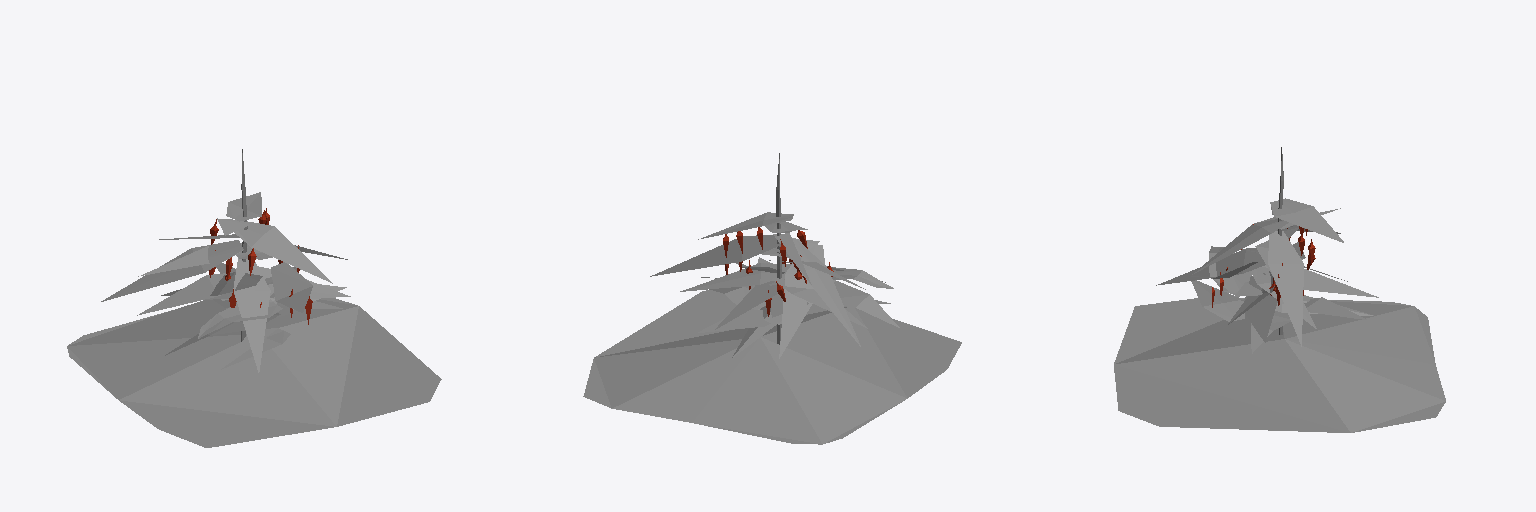
3 views of the same model, side by side, from view 1: azimuth 30°, elevation 25°; view 2: azimuth 150°, elevation 25°; view 3: azimuth 270°, elevation 25° (orthographic).
Parts seen in each view (by area): view 1: Chilismall_lod2; view 2: Chilismall_lod2; view 3: Chilismall_lod2.
Boxes of the visible parts, x1,y1,x2,y2 form: Chilismall_lod2: [67, 149, 441, 447]; Chilismall_lod2: [583, 153, 961, 444]; Chilismall_lod2: [1114, 147, 1445, 432].
Size of the model in its own units: 1670 by 1261 by 1735.
Materials: 4 (1 with a texture image).